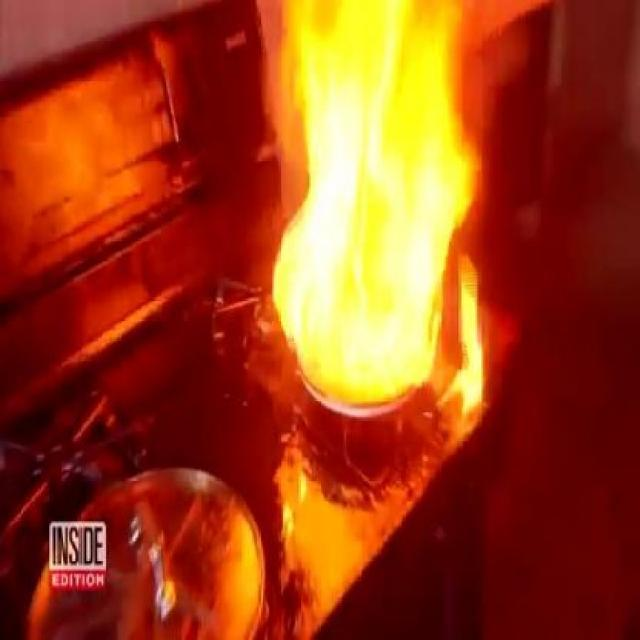fire: (272, 19, 439, 396)
